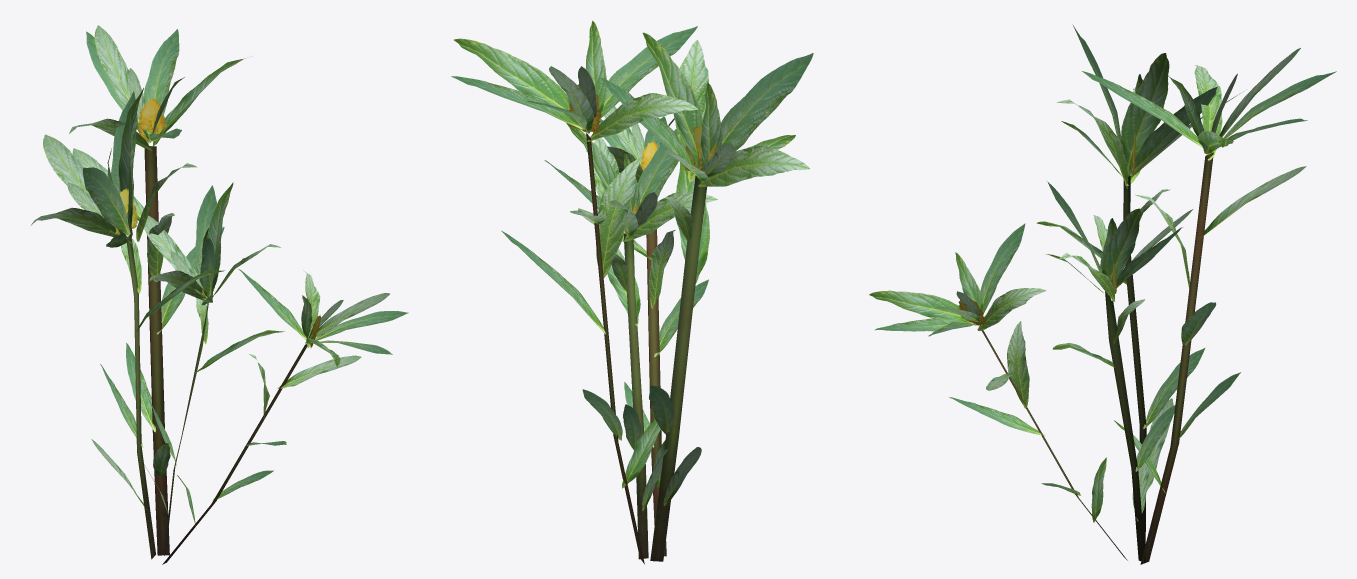
The model's file is leafplant7_lod1.fbx.
The picture shows the model from 3 angles, left to right: view 1: azimuth 30°, elevation 25°; view 2: azimuth 150°, elevation 25°; view 3: azimuth 270°, elevation 25°; orthographic projection. The views are drawn at different scales.
Visible parts, largest first — view 1: Mesh Object; view 2: Mesh Object; view 3: Mesh Object.
Boxes of the visible parts, x1=… form: Mesh Object: x1=31, y1=25, x2=408, y2=564; Mesh Object: x1=451, y1=20, x2=813, y2=564; Mesh Object: x1=869, y1=24, x2=1336, y2=564.
Size of the model in its own units: 1.58 by 2.37 by 1.94.
